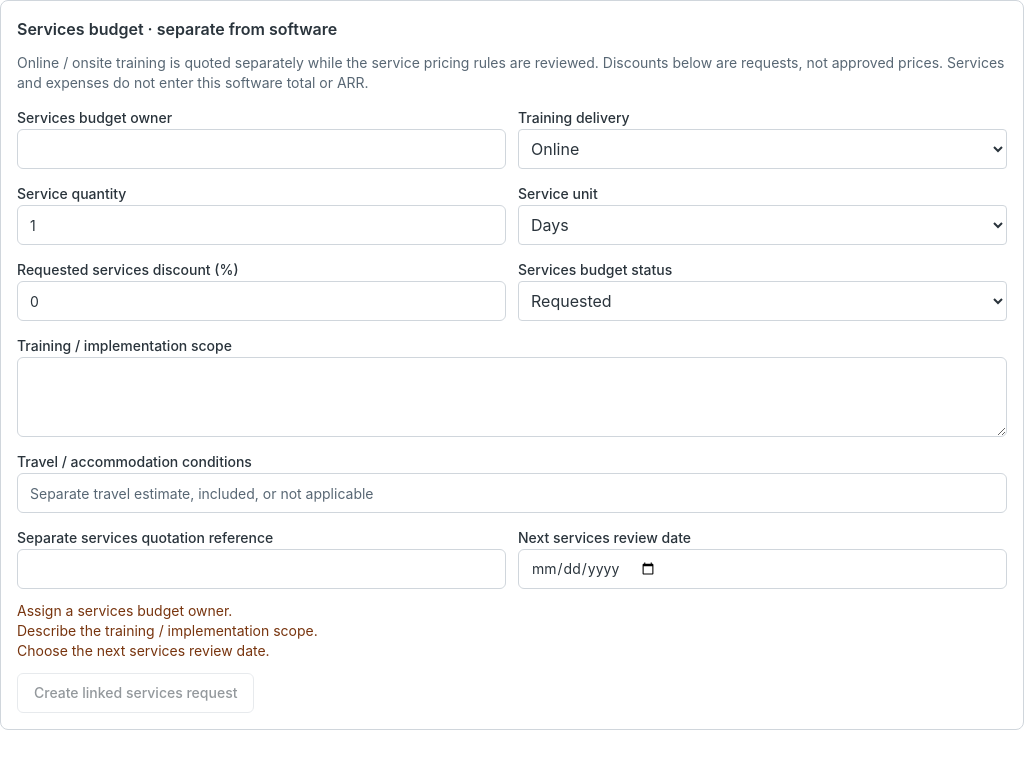
Test: Linked service budget preparation › does not allow a quoted state without a quotation reference
The image size is (1024, 768).
Type "Rita" into the field labelled "Services budget owner" at (262, 149), box [17,129,506,169]
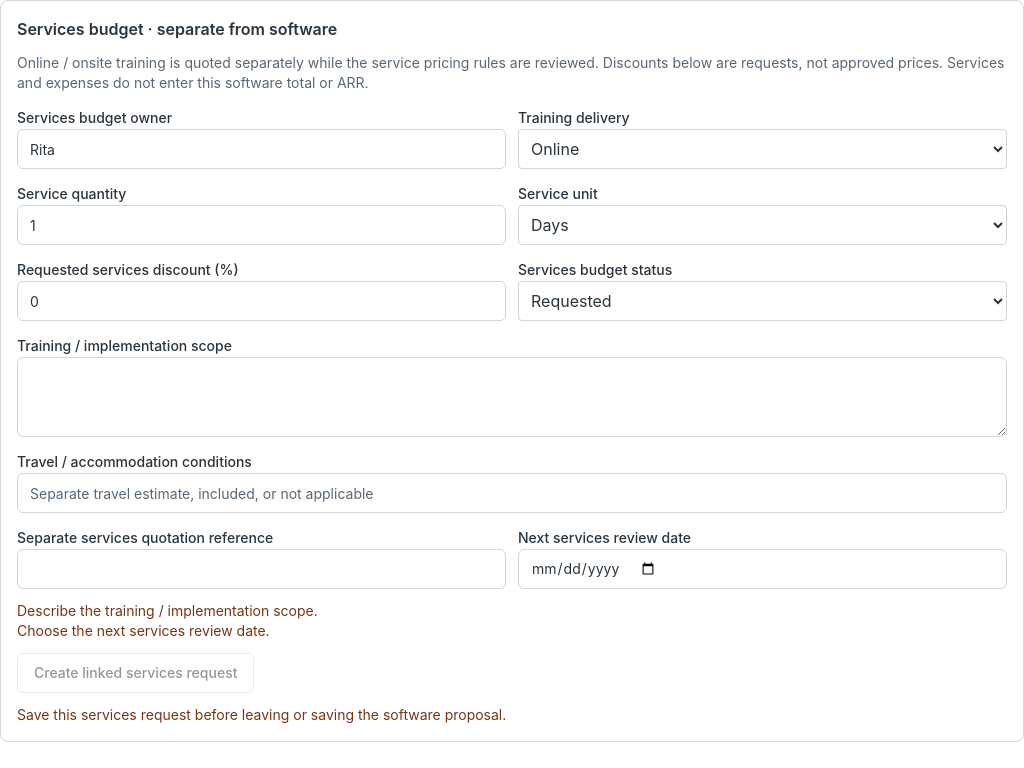
Select "Compare online / onsite" in the dropdown labelled "Training delivery" at (762, 149), box [518,129,1007,169]
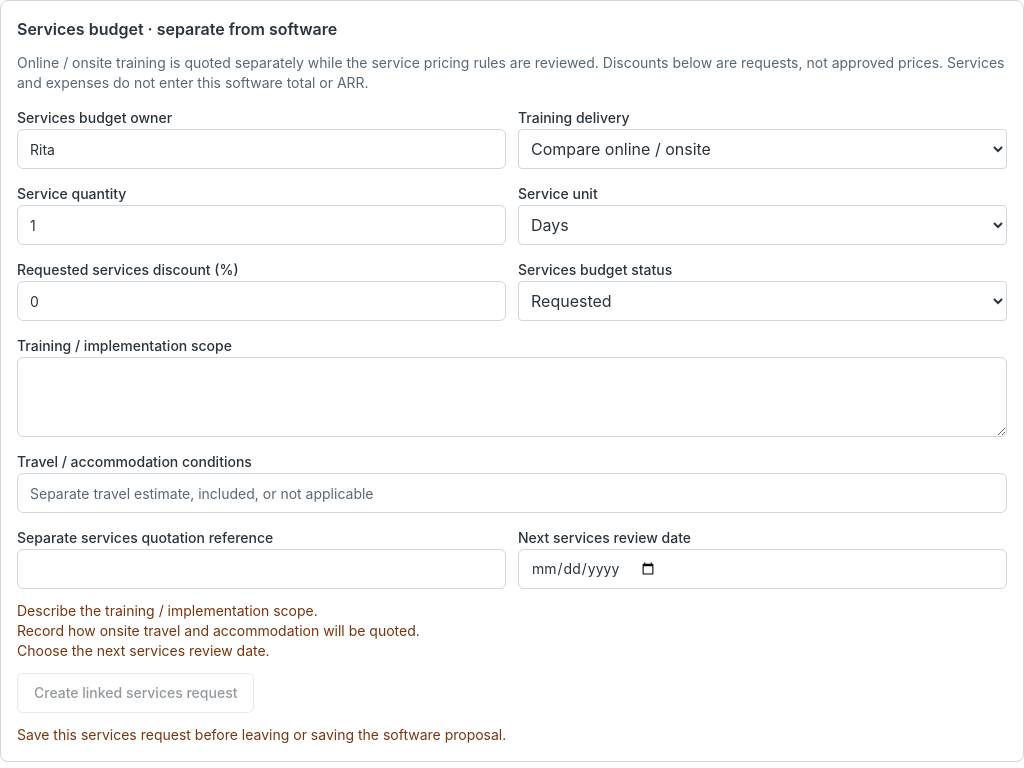
Replace the text in the number field labelled "Service quantity" with "2" at (262, 225), box [17,205,506,245]
Replace the text in the number field labelled "Requested services discount (%)" with "25" at (262, 301), box [17,281,506,321]
Type "Stock and purchasing training" into the text box labelled "Training / implementation scope" at (512, 397), box [17,357,1007,437]
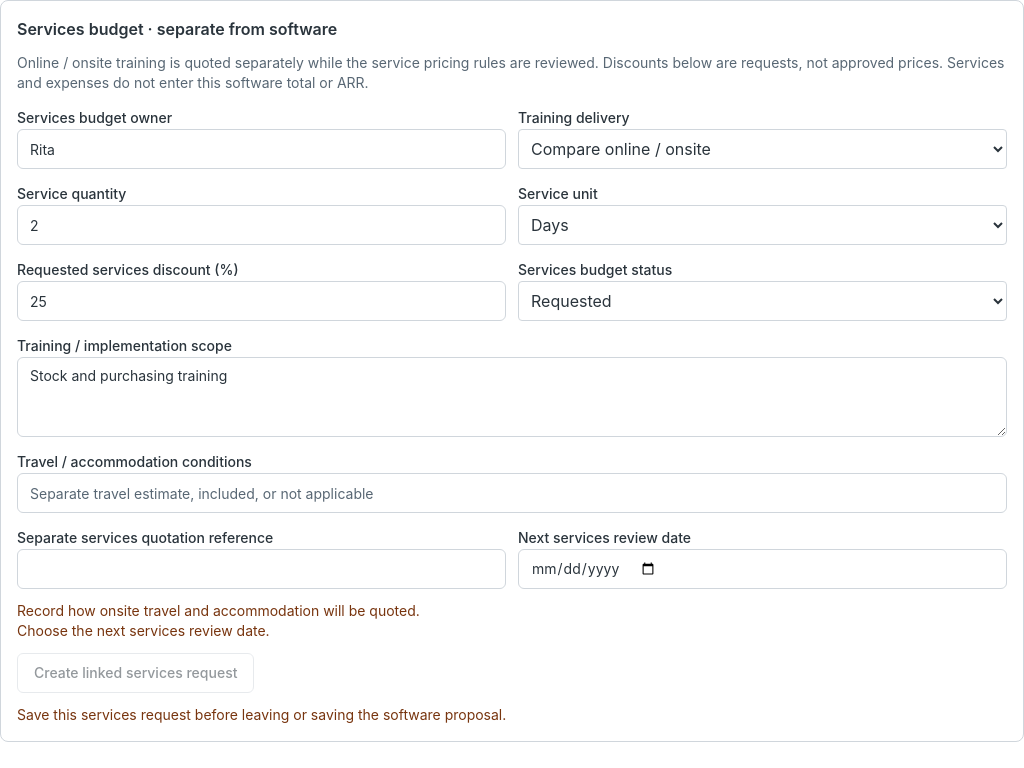
Type "Separate travel estimate" into the field labelled "Travel / accommodation conditions" at (512, 493), box [17,473,1007,513]
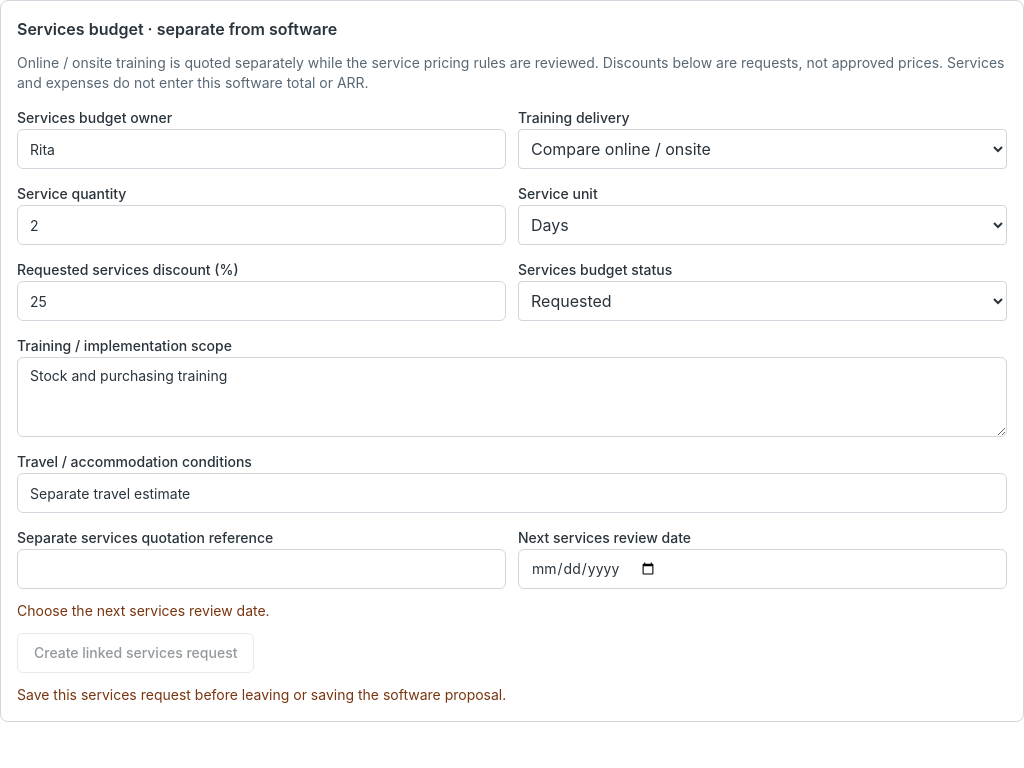
Type "2026-11-03" into the date field labelled "Next services review date" at (762, 569), box [518,549,1007,589]
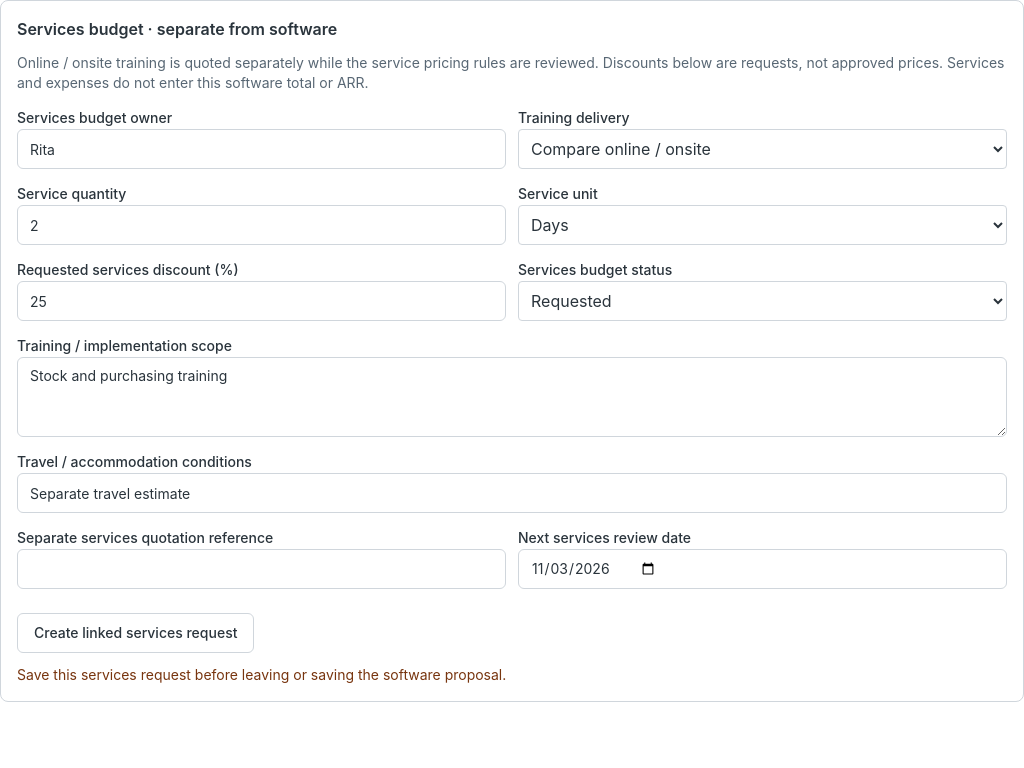
Select "Separately quoted" in the dropdown labelled "Services budget status" at (762, 301), box [518,281,1007,321]
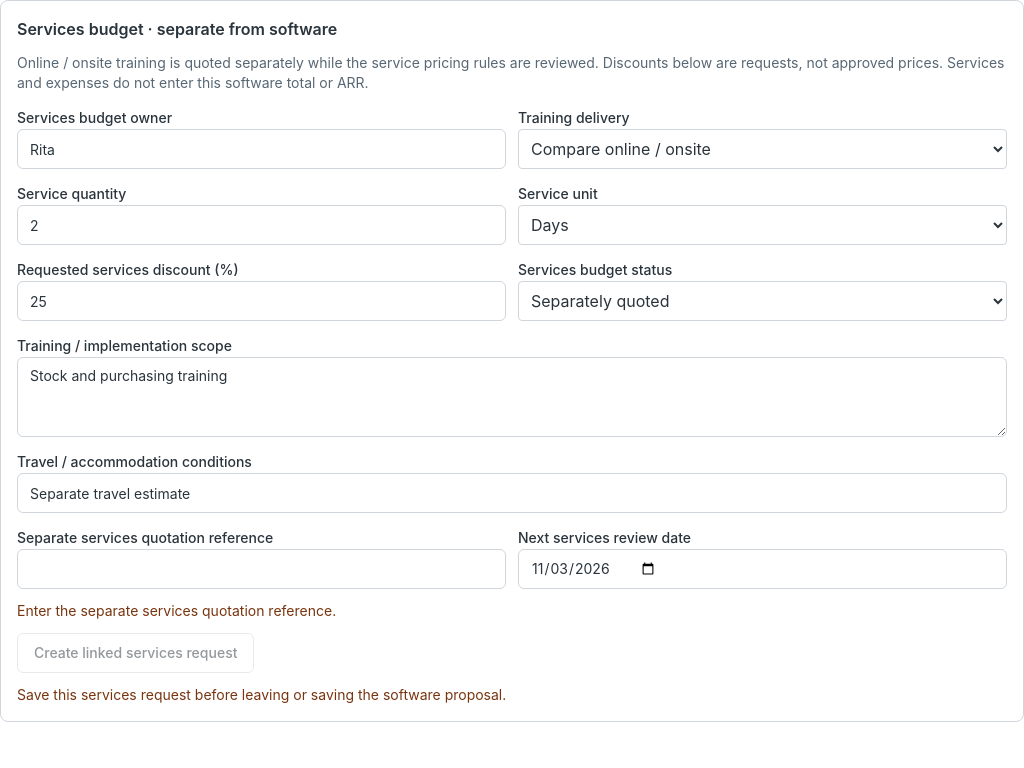
Expected: the button "Create linked services request" is disabled, [17,633,254,673]
Expected: the list item "Enter the separate services quotation reference." is shown, [17,602,336,619]
